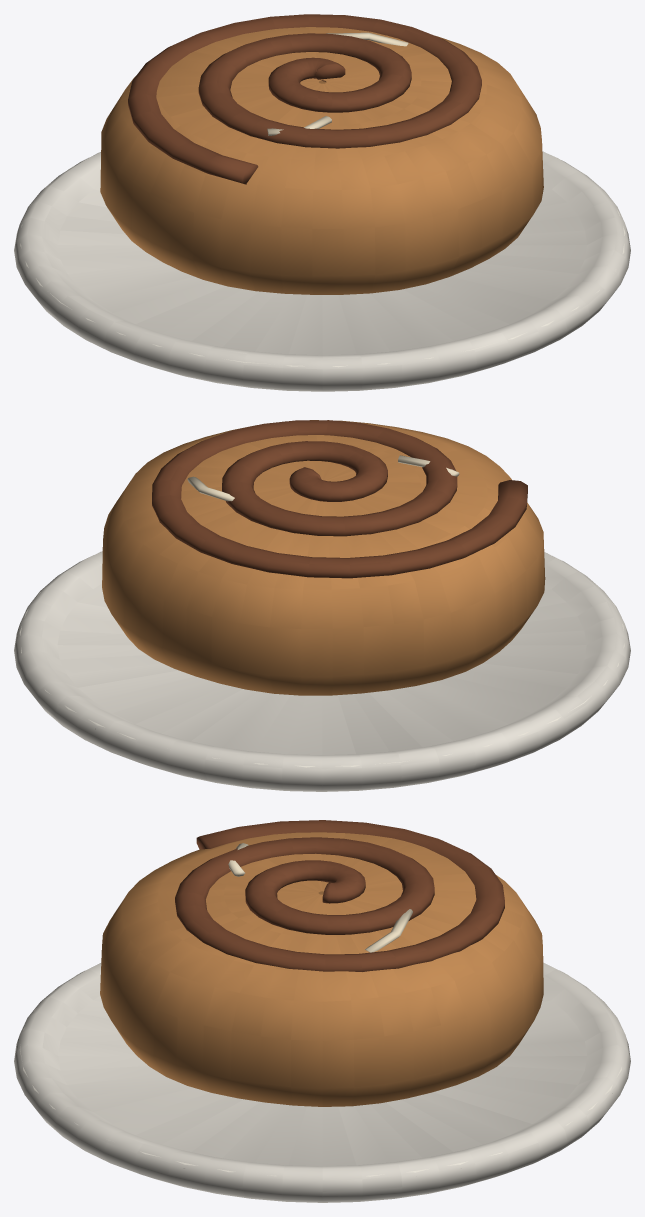
The model's file is cinnamon-roll.glb.
3 views of the same model, one above another, from view 1: azimuth 30°, elevation 25°; view 2: azimuth 150°, elevation 25°; view 3: azimuth 270°, elevation 25° (orthographic).
Parts seen in each view (by area): view 1: Cinnamon_roll_thick_round_bun, Shared_milky_white_round_glass_plate, Cinnamon_roll_bold_cinnamon_spiral_filling; view 2: Cinnamon_roll_thick_round_bun, Shared_milky_white_round_glass_plate, Cinnamon_roll_bold_cinnamon_spiral_filling; view 3: Cinnamon_roll_thick_round_bun, Shared_milky_white_round_glass_plate, Cinnamon_roll_bold_cinnamon_spiral_filling, Cinnamon_roll_short_cream_icing_2.
Part boxes in pixels (x1,y1,x2,y2): Cinnamon_roll_thick_round_bun: (100, 27, 543, 294); Shared_milky_white_round_glass_plate: (14, 151, 630, 391); Cinnamon_roll_bold_cinnamon_spiral_filling: (128, 14, 481, 184); Cinnamon_roll_thick_round_bun: (102, 420, 545, 695); Shared_milky_white_round_glass_plate: (14, 551, 630, 791); Cinnamon_roll_bold_cinnamon_spiral_filling: (152, 420, 527, 578); Cinnamon_roll_thick_round_bun: (100, 832, 543, 1106); Shared_milky_white_round_glass_plate: (14, 963, 630, 1202); Cinnamon_roll_bold_cinnamon_spiral_filling: (175, 820, 504, 971); Cinnamon_roll_short_cream_icing_2: (365, 909, 412, 952).
Bounding box in the file's own units: 0.94 × 0.3564 × 0.94.
